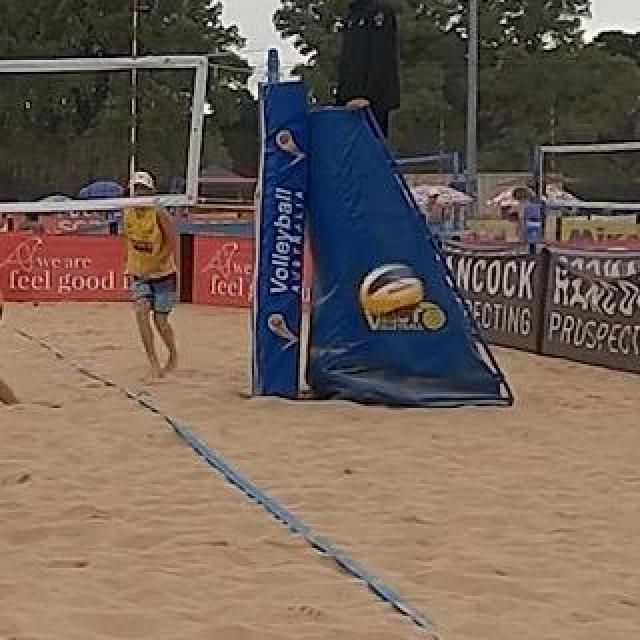volleyball: (362, 263, 424, 321)
